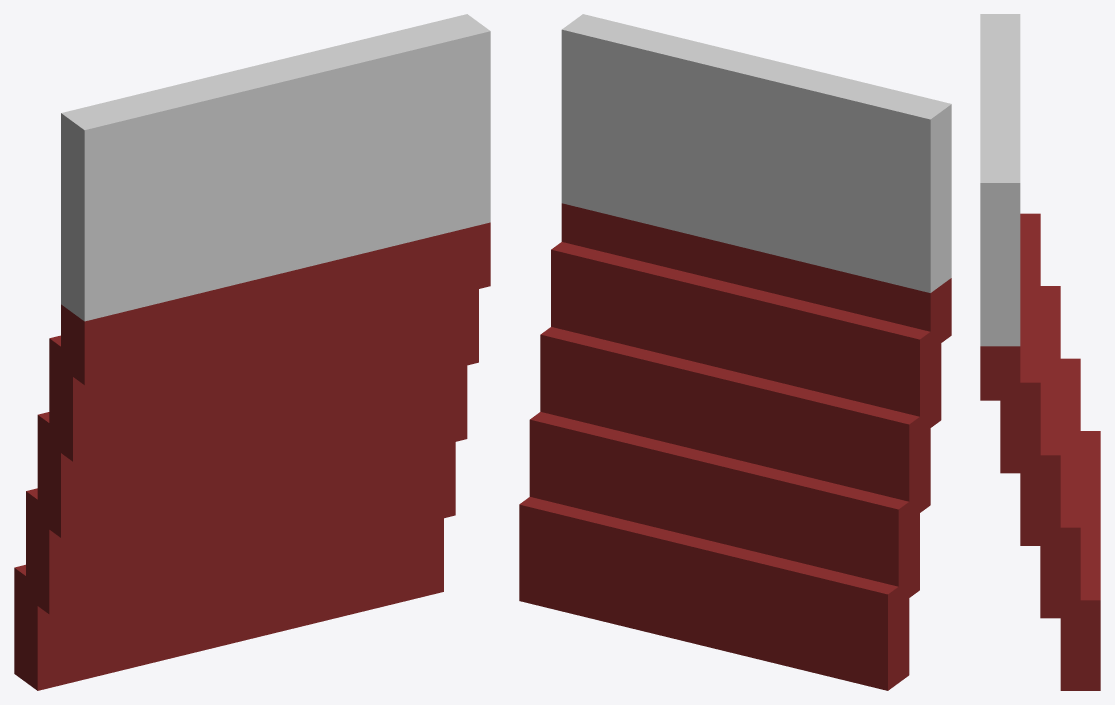
File: plane_curved_walls.gltf
3 renders of one model, left to right at view 1: azimuth 30°, elevation 25°; view 2: azimuth 150°, elevation 25°; view 3: azimuth 270°, elevation 25°, orthographic. The views are drawn at different scales.
Parts seen in each view (by area): view 1: Layer.1; view 2: Layer.1; view 3: Layer.1.
Boxes of the visible parts, x1,y1,x2,y2 form: Layer.1: [14, 14, 490, 690]; Layer.1: [519, 14, 951, 690]; Layer.1: [980, 14, 1100, 690].
Size of the model in its own units: 20 by 28 by 6.
